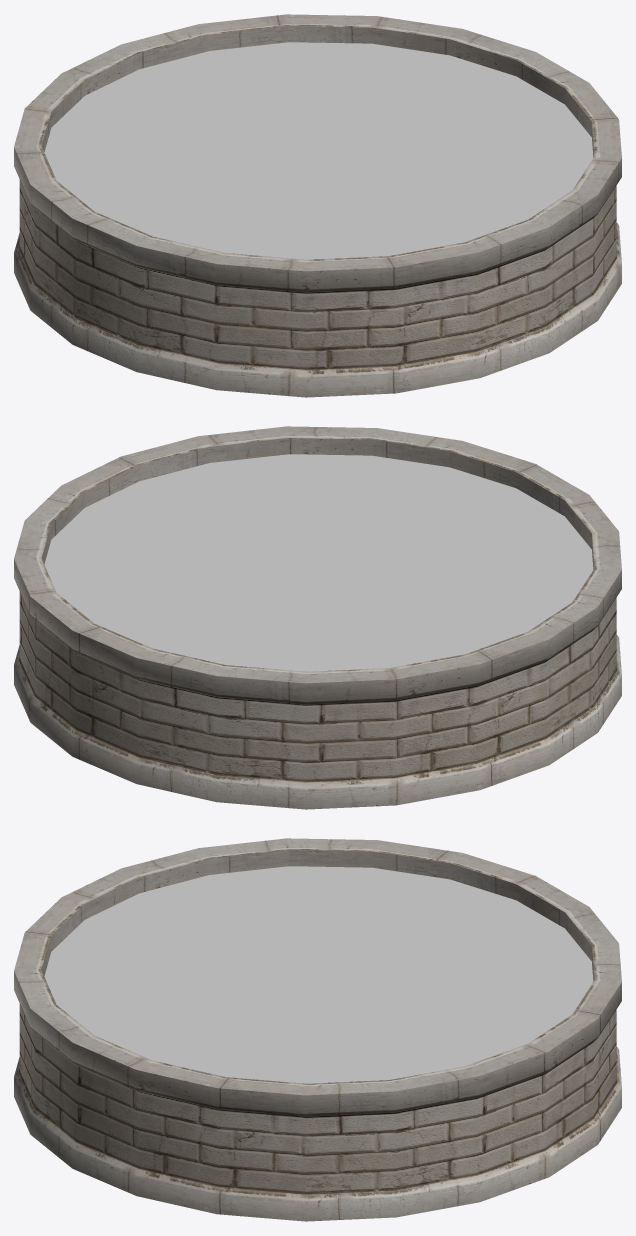
File: Flowerbed_Round.FBX
3 views of the same model, one above another, from view 1: azimuth 30°, elevation 25°; view 2: azimuth 150°, elevation 25°; view 3: azimuth 270°, elevation 25° (orthographic).
Visible parts, largest first — view 1: Flowerbed_Round; view 2: Flowerbed_Round; view 3: Flowerbed_Round.
Part boxes in pixels (x1,y1,x2,y2): Flowerbed_Round: (14, 14, 621, 397); Flowerbed_Round: (14, 426, 621, 809); Flowerbed_Round: (14, 838, 621, 1221).
Bounding box in the file's own units: 181 × 41.48 × 181.
